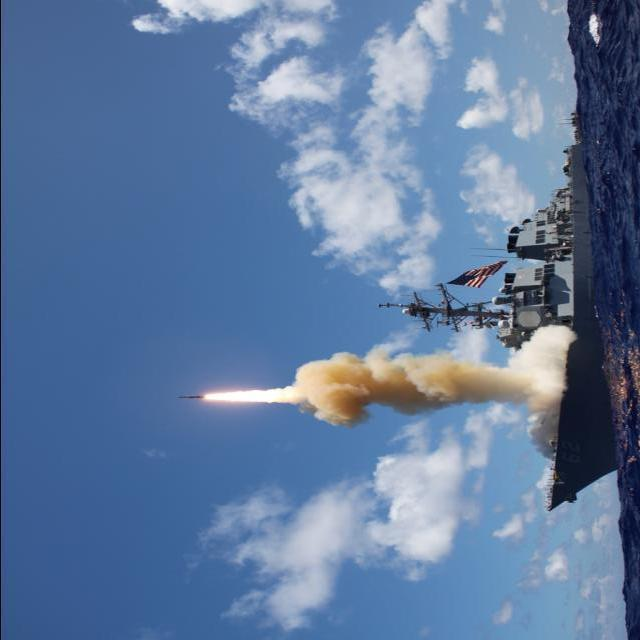missile: (175, 392, 210, 404)
